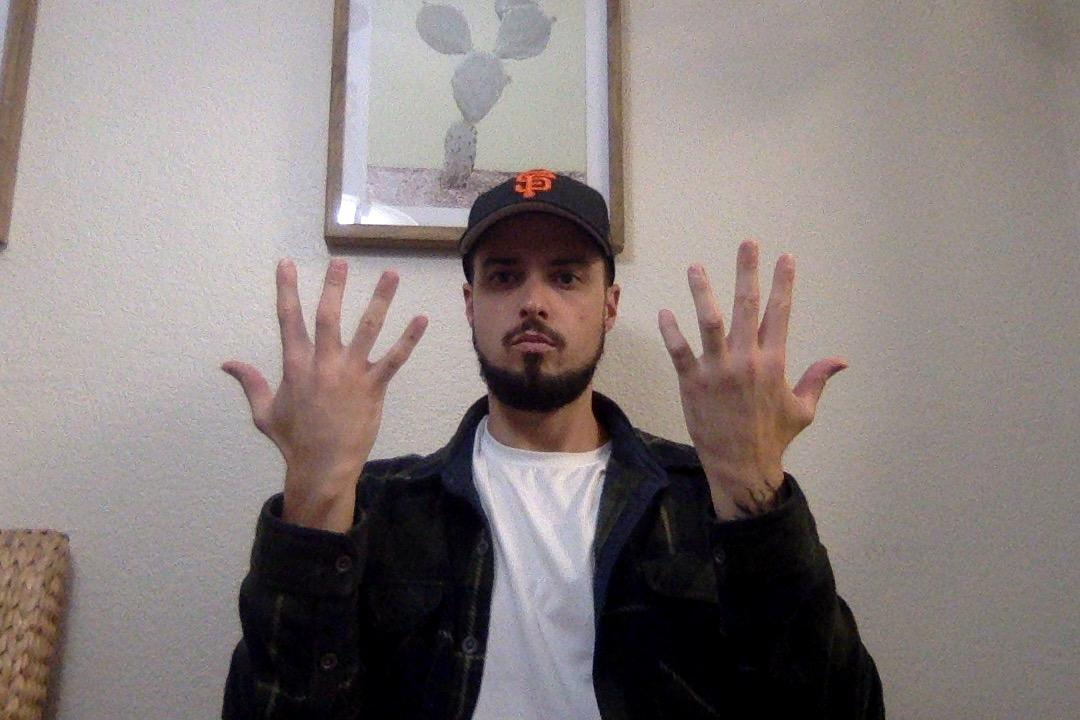Fingers-Spread: (218, 252, 432, 524), (648, 240, 850, 477)
